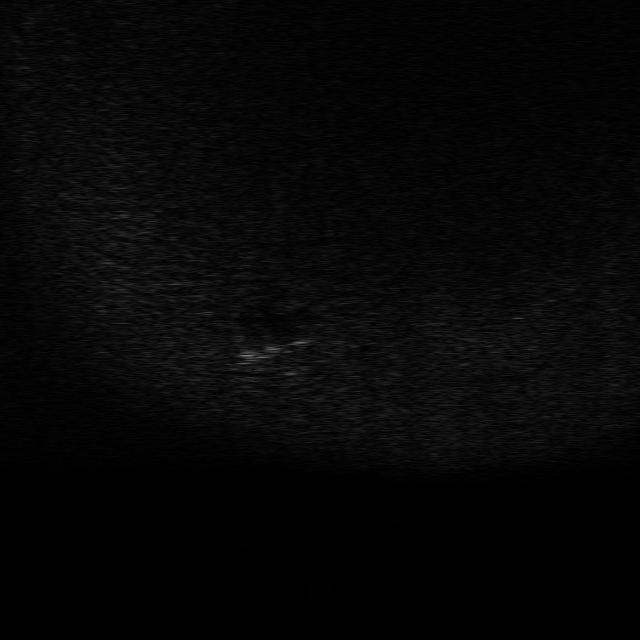plane: (230, 331, 310, 368)
